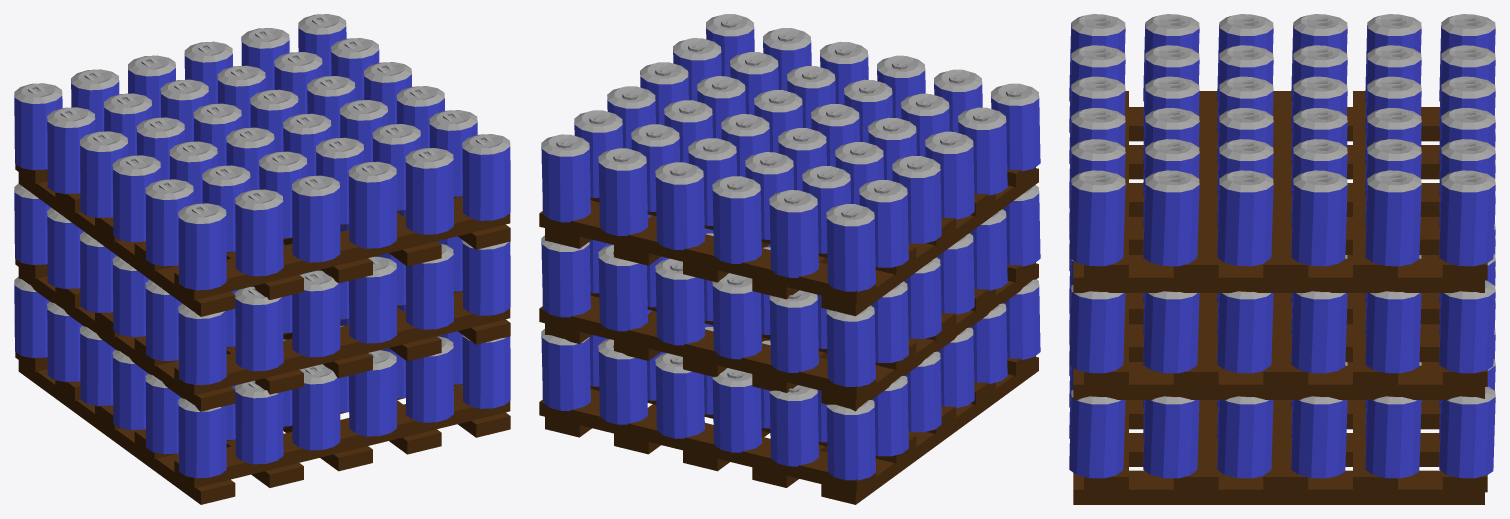
The model's file is paletteOfCans.fbx.
3 renders of one model, left to right at view 1: azimuth 30°, elevation 25°; view 2: azimuth 150°, elevation 25°; view 3: azimuth 270°, elevation 25°, orthographic. The views are drawn at different scales.
Parts seen in each view (by area): view 1: Kostka.002, Kostka.003, Kostka.001, group688375807.102, group688375807.103, group688375807.107, group688375807.104, group688375807.106, group688375807.105, group688375807.040, group688375807.039, group688375807.031 (+51 smaller); view 2: Kostka.002, Kostka.003, Kostka.001, group688375807.077, group688375807.072, group688375807.074, group688375807.073, group688375807.076, group688375807.075, group688375807.068, group688375807.067, group688375807.003 (+50 smaller); view 3: Kostka.003, Kostka.002, Kostka.001, group688375807.083, group688375807.084, group688375807.072, group688375807.095, group688375807.096, group688375807.107, group688375807.071, group688375807, group688375807.036 (+39 smaller).
Part boxes in pixels (box(x1,y1,x2,y2)): Kostka.002: box(15, 352, 510, 504); Kostka.003: box(15, 164, 510, 316); Kostka.001: box(15, 259, 510, 411); group688375807.102: box(178, 203, 226, 290); group688375807.103: box(235, 189, 283, 276); group688375807.107: box(462, 134, 510, 220); group688375807.104: box(291, 175, 340, 262); group688375807.106: box(405, 148, 453, 234); group688375807.105: box(348, 161, 396, 248); group688375807.040: box(235, 286, 283, 371); group688375807.039: box(292, 270, 340, 357); group688375807.031: box(235, 380, 283, 464); Kostka.002: box(539, 356, 1038, 504); Kostka.003: box(539, 167, 1038, 316); Kostka.001: box(539, 262, 1038, 411); group688375807.077: box(826, 204, 875, 291); group688375807.072: box(541, 134, 590, 222); group688375807.074: box(655, 162, 704, 249); group688375807.073: box(598, 148, 647, 236); group688375807.076: box(769, 190, 818, 277); group688375807.075: box(712, 176, 761, 263); group688375807.068: box(712, 273, 761, 359); group688375807.067: box(769, 290, 818, 372); group688375807.003: box(712, 368, 761, 452); Kostka.003: box(1073, 91, 1487, 292); Kostka.002: box(1073, 324, 1487, 504); Kostka.001: box(1073, 217, 1487, 399); group688375807.083: box(1365, 170, 1421, 266); group688375807.084: box(1291, 170, 1347, 266); group688375807.072: box(1439, 170, 1495, 266); group688375807.095: box(1217, 170, 1273, 266); group688375807.096: box(1143, 170, 1199, 266); group688375807.107: box(1069, 170, 1125, 266); group688375807.071: box(1439, 280, 1495, 373); group688375807: box(1439, 386, 1495, 478); group688375807.036: box(1069, 284, 1125, 373).
Size of the model in its own units: 1148 by 959 by 1152.
